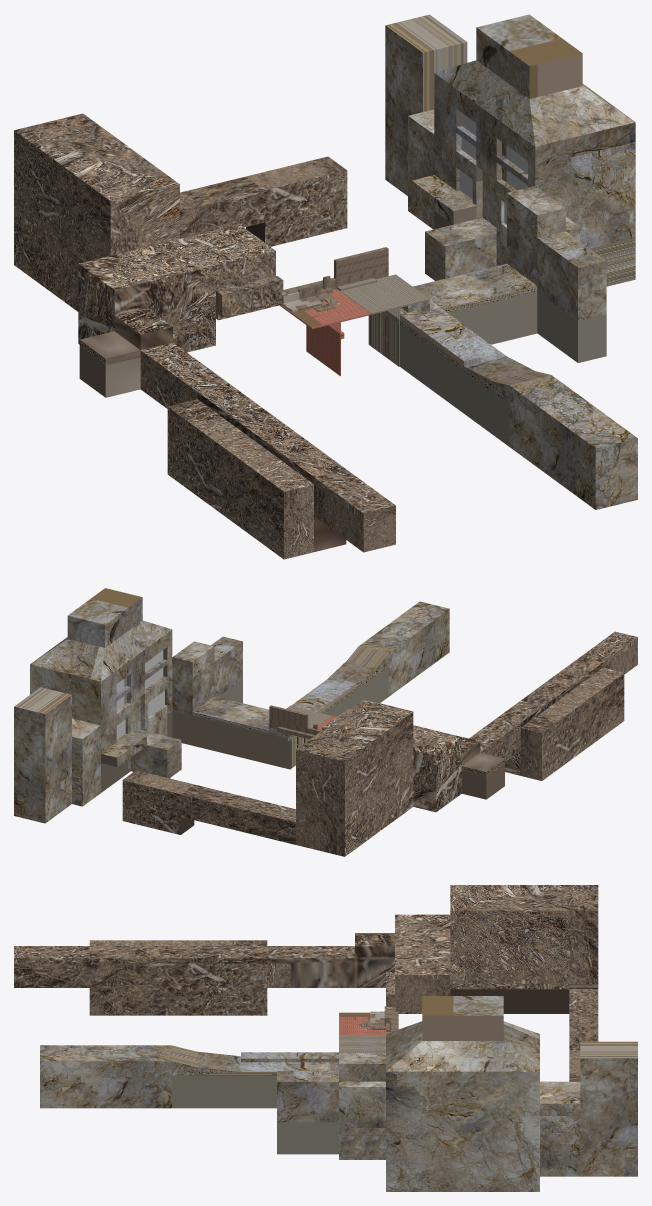
File: decor08.obj
The picture shows the model from 3 angles, top to bottom: view 1: azimuth 30°, elevation 25°; view 2: azimuth 150°, elevation 25°; view 3: azimuth 270°, elevation 25°; orthographic projection. The views are drawn at different scales.
Parts seen in each view (by area): view 1: Plan.004, Plan.001_Plan.006, Plan.002_Plan.007; view 2: Plan.004, Plan.001_Plan.006; view 3: Plan.004, Plan.001_Plan.006, Plan.002_Plan.007.
Part boxes in pixels (box(x1,y1,x2,y2)): Plan.004: box(337, 14, 637, 509); Plan.001_Plan.006: box(14, 113, 395, 559); Plan.002_Plan.007: box(278, 289, 370, 376); Plan.004: box(14, 588, 449, 823); Plan.001_Plan.006: box(122, 631, 637, 856); Plan.004: box(40, 996, 637, 1191); Plan.001_Plan.006: box(14, 885, 598, 1081); Plan.002_Plan.007: box(339, 1013, 390, 1035).
Size of the model in its own units: 10649 by 4089 by 13673.
Materials: 5 (4 with a texture image).
